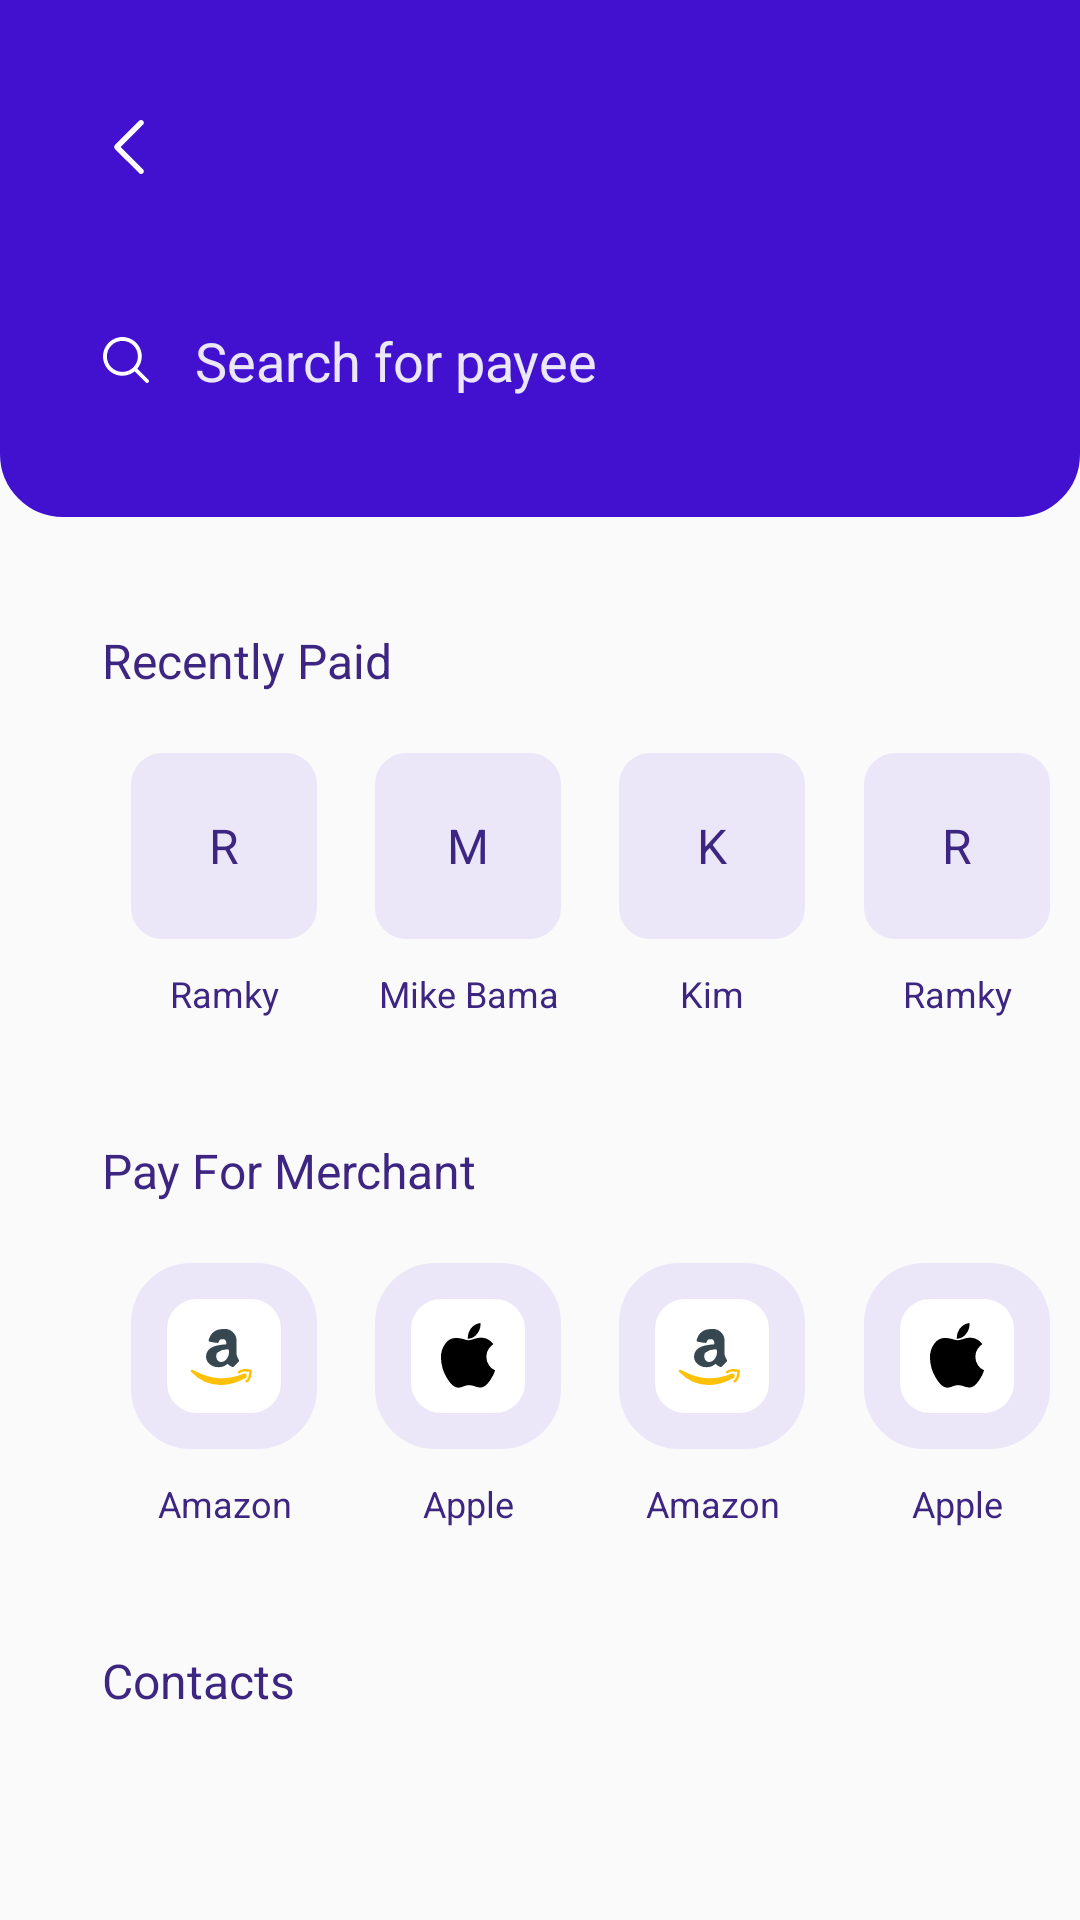

Where to tap for icons on this 1080x1920 app screen, as point (x, y):
back: point (129, 147)
